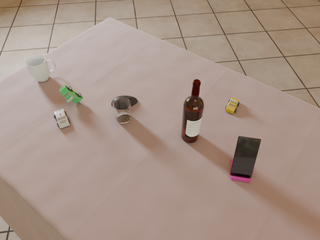bottle: (181, 79, 204, 143)
cup: (26, 55, 56, 82), (112, 96, 131, 123)
mouse: (111, 96, 137, 106)
phone: (230, 136, 261, 178)
toy_car: (59, 85, 83, 103), (54, 109, 70, 128), (225, 98, 239, 114)
